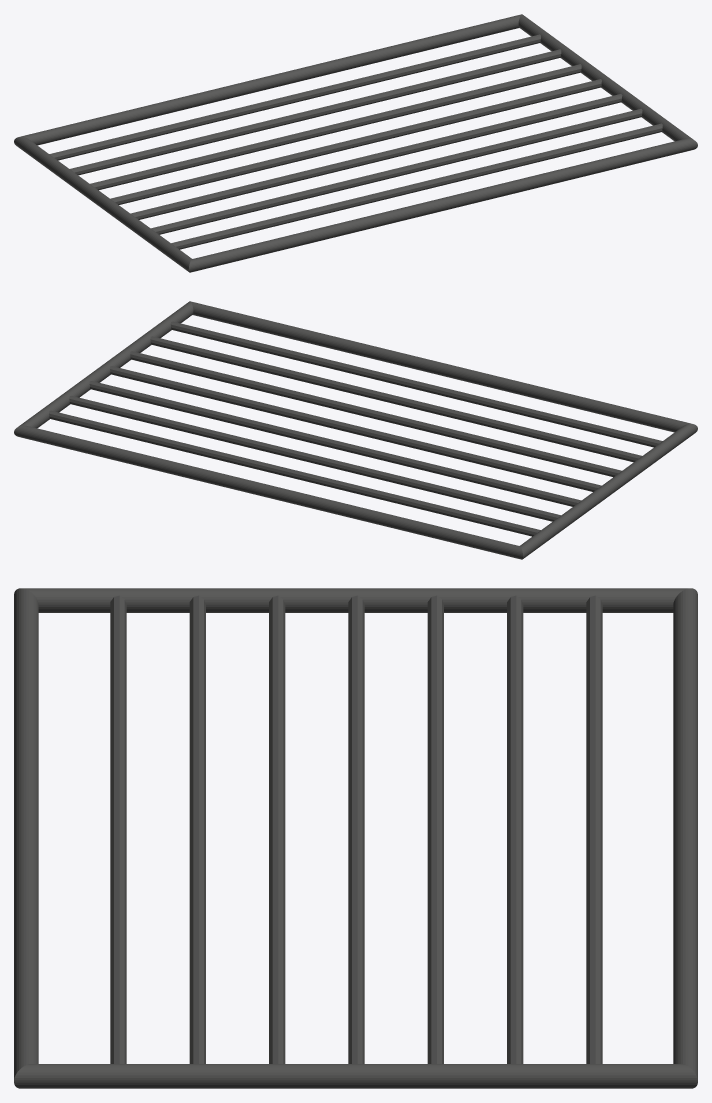
Rendered from _rill.fbx.
3 views of the same model, one above another, from view 1: azimuth 30°, elevation 25°; view 2: azimuth 150°, elevation 25°; view 3: azimuth 270°, elevation 25° (orthographic). The views are drawn at different scales.
Parts seen in each view (by area): view 1: Cylinder.046; view 2: Cylinder.046; view 3: Cylinder.046.
Part boxes in pixels (x1=…): Cylinder.046: x1=14, y1=14, x2=697, y2=272; Cylinder.046: x1=14, y1=301, x2=697, y2=559; Cylinder.046: x1=14, y1=588, x2=697, y2=1088.
Size of the model in its own units: 86.18 by 1.87 by 51.24.
